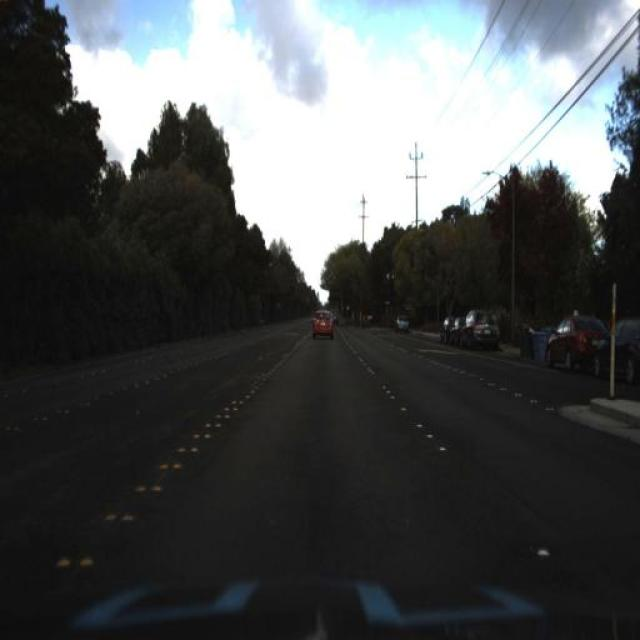car: (546, 312, 608, 376), (594, 314, 638, 385), (461, 309, 502, 351), (312, 306, 336, 340), (394, 310, 411, 332)
